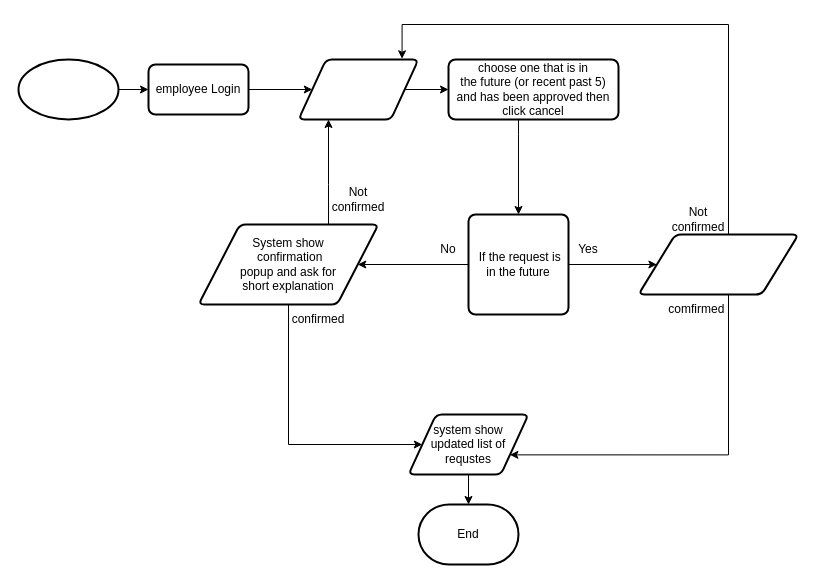
Image size: 816x583. Some labels were removed from this diagram. Here are the shapes that lost their labels. From the top down, the box of each, then its label:
(17, 58, 119, 120): Start
(297, 58, 419, 120): system show list of requstes
(637, 233, 799, 295): System show confirmation popup
